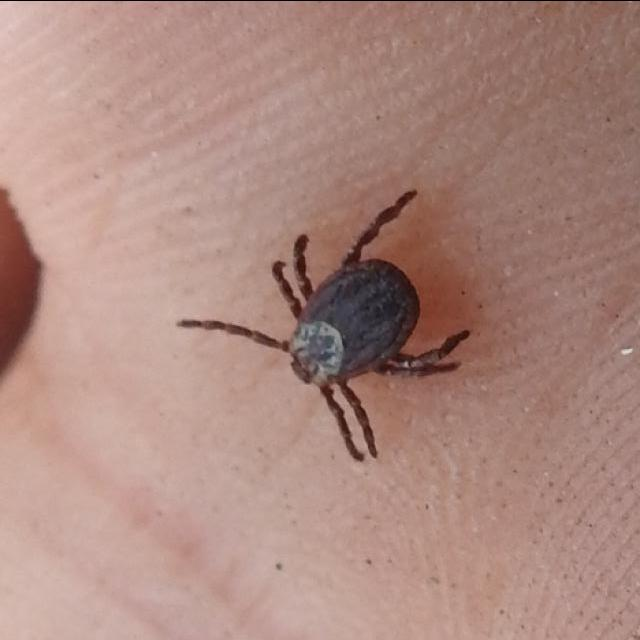Dermacentor Reticulatus-F: (182, 193, 466, 462)
